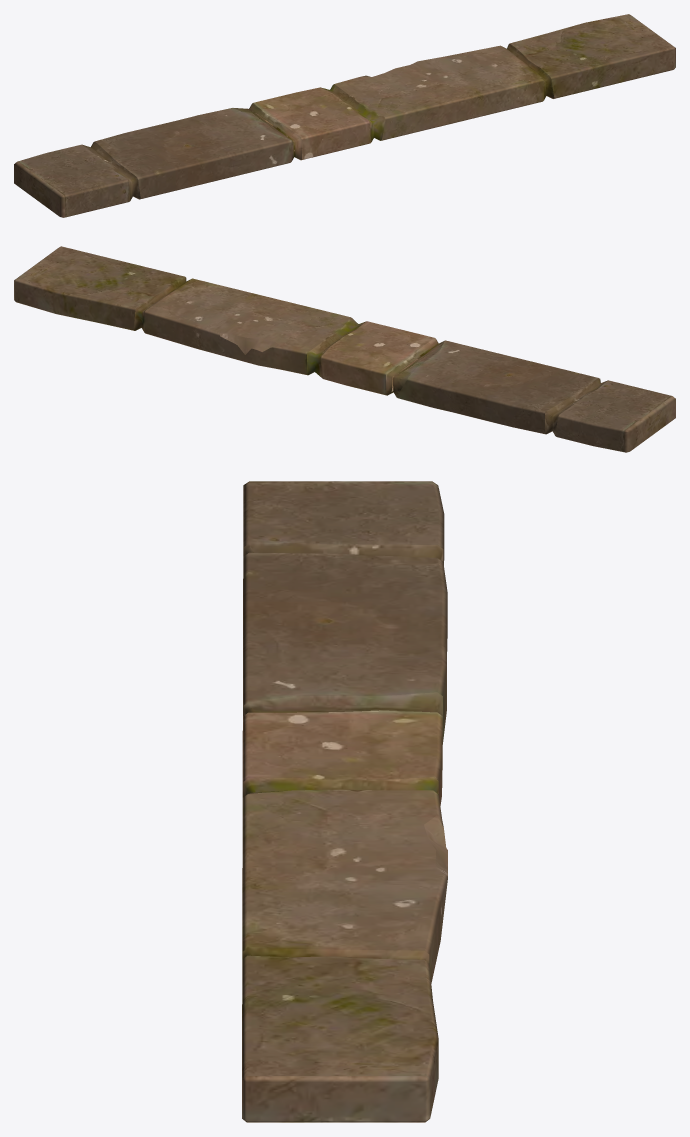
3 views of the same model, one above another, from view 1: azimuth 30°, elevation 25°; view 2: azimuth 150°, elevation 25°; view 3: azimuth 270°, elevation 25° (orthographic). The views are drawn at different scales.
Visible parts, largest first — view 1: SM_Human_Ruins_Steps_Slob_01_LOD0; view 2: SM_Human_Ruins_Steps_Slob_01_LOD0; view 3: SM_Human_Ruins_Steps_Slob_01_LOD0.
Part boxes in pixels (x1=…): SM_Human_Ruins_Steps_Slob_01_LOD0: x1=14, y1=14, x2=675, y2=217; SM_Human_Ruins_Steps_Slob_01_LOD0: x1=14, y1=246, x2=675, y2=452; SM_Human_Ruins_Steps_Slob_01_LOD0: x1=242, y1=481, x2=447, y2=1122.
Bounding box in the file's own units: 4 × 0.1443 × 0.5796.
Materials: 1 (1 with a texture image).
